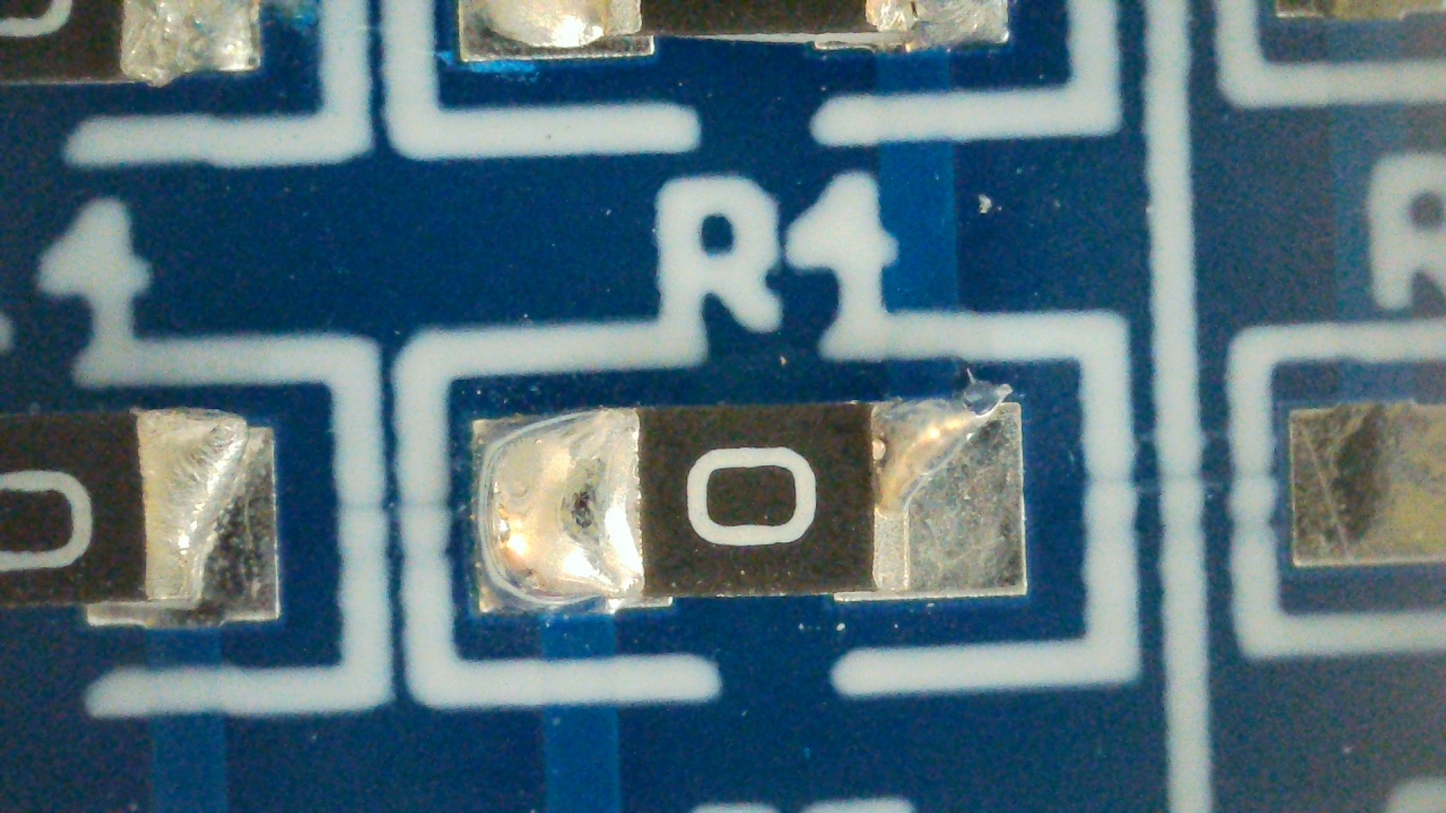OK: (472, 398, 1028, 618)
